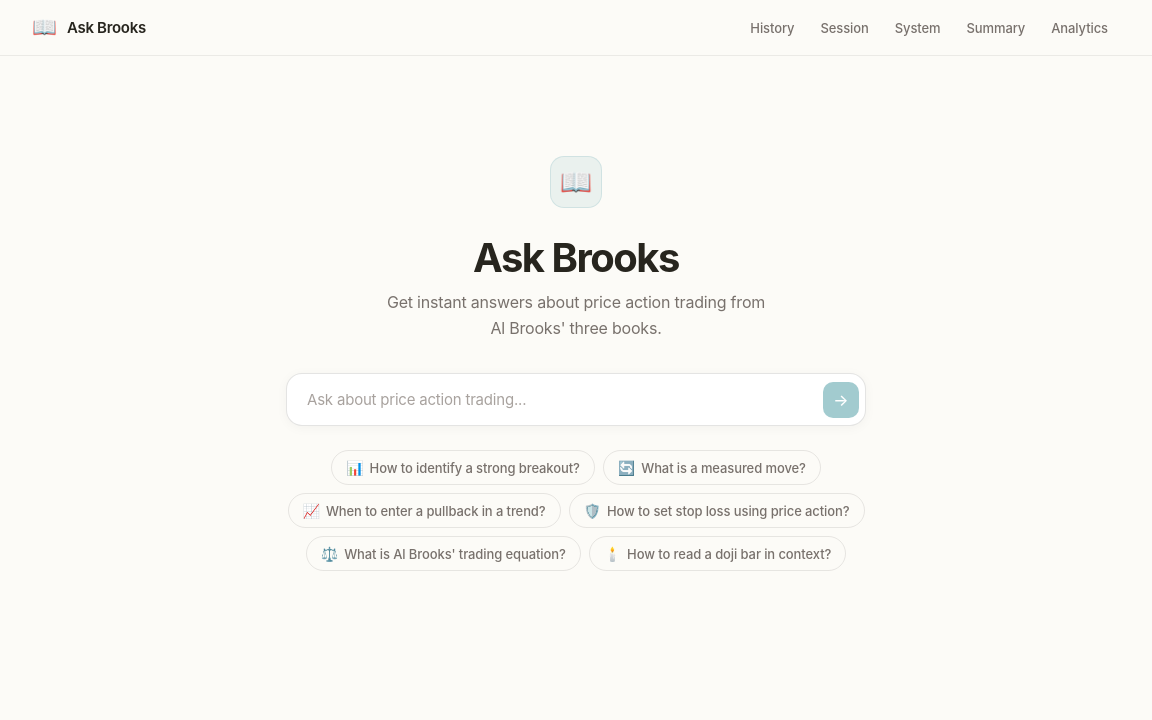
Test: AskBrooksPage › closes history panel when overlay clicked
Click the button "History" at (772, 28), box top-left (738, 14), bottom-right (806, 42)
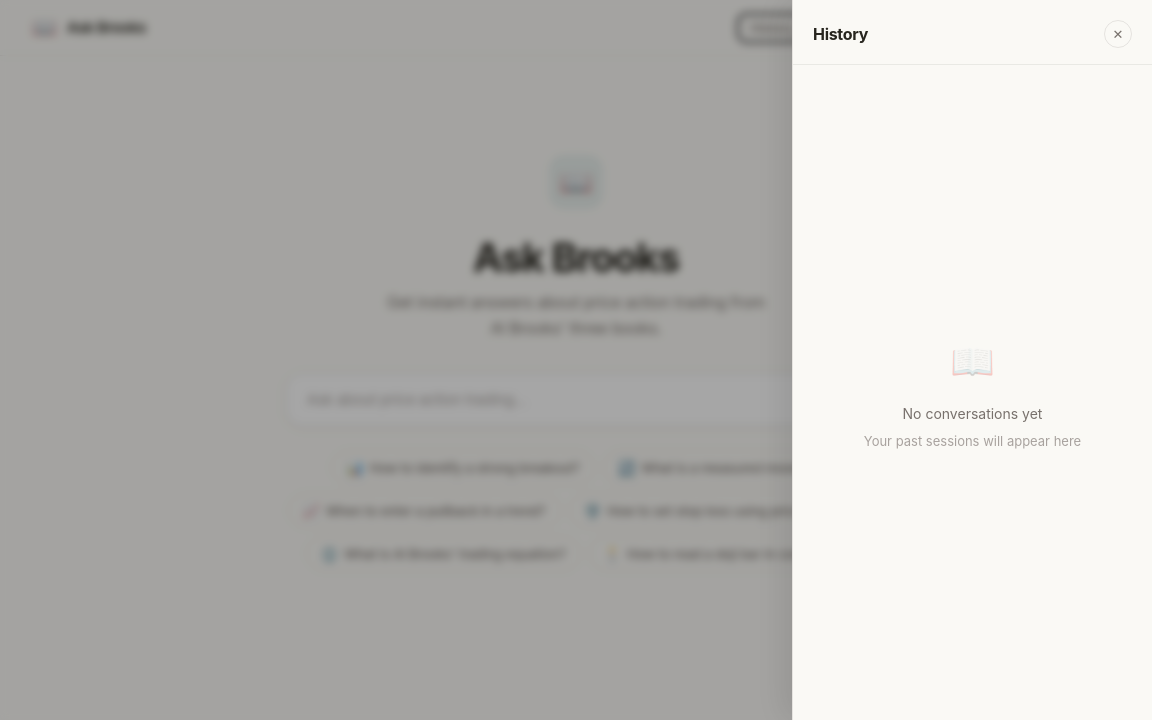
Click the overlay (not the panel) — the overlay is the parent element
Click the element with class "ab-history-overlay" at (576, 360), box top-left (0, 0), bottom-right (1151, 719)
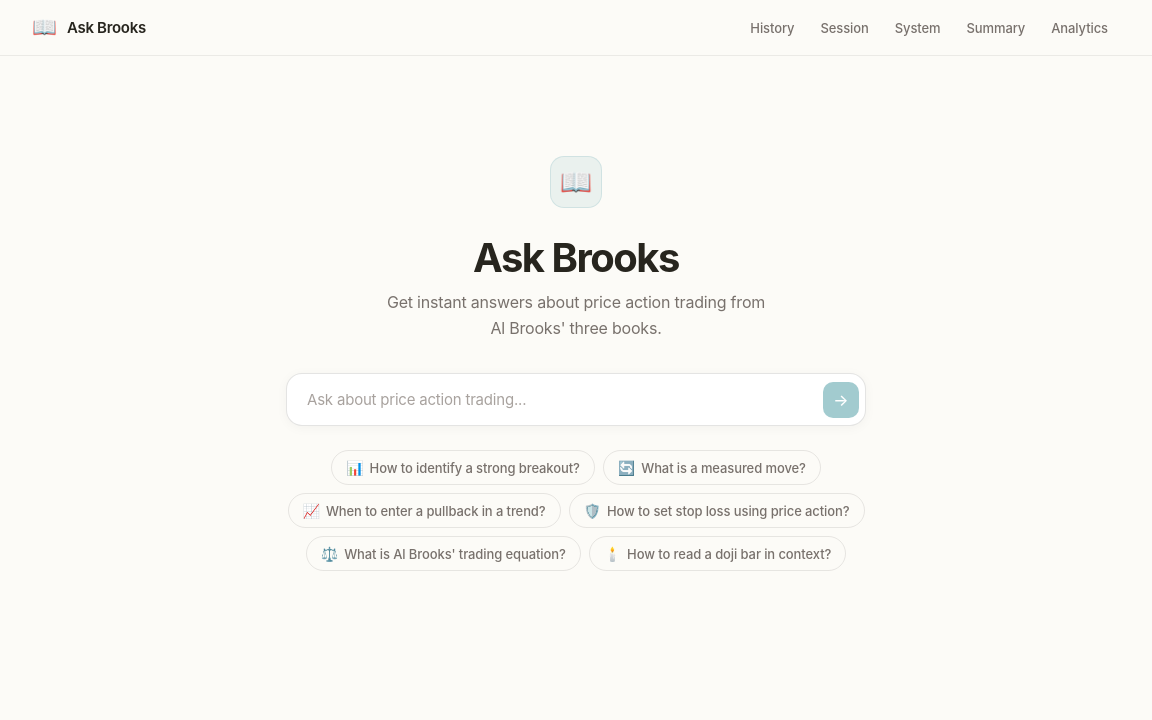
Result: the text "No conversations yet" is gone
